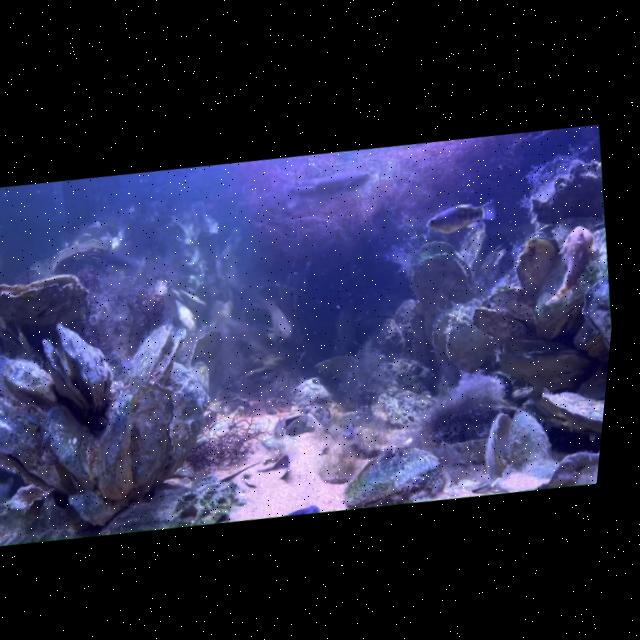Oyster-Closed: (518, 216, 622, 344), (80, 388, 148, 500), (494, 338, 599, 405), (119, 378, 186, 478), (0, 267, 92, 328), (536, 380, 606, 446), (507, 231, 569, 301), (0, 293, 34, 368)
Oyster-Indeterminate: (0, 380, 85, 509), (154, 357, 224, 468), (35, 399, 107, 499), (0, 352, 62, 416), (467, 298, 534, 349), (0, 458, 34, 542), (455, 216, 496, 274)
Oyster-Open: (31, 314, 124, 425), (475, 403, 561, 490), (117, 317, 197, 393), (398, 235, 467, 313), (46, 233, 117, 283), (279, 410, 316, 440)
